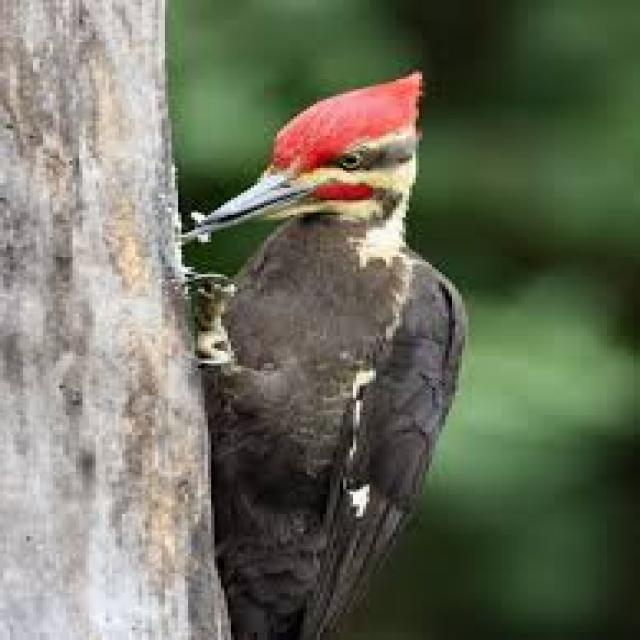Woodpecker: (181, 52, 477, 635)
